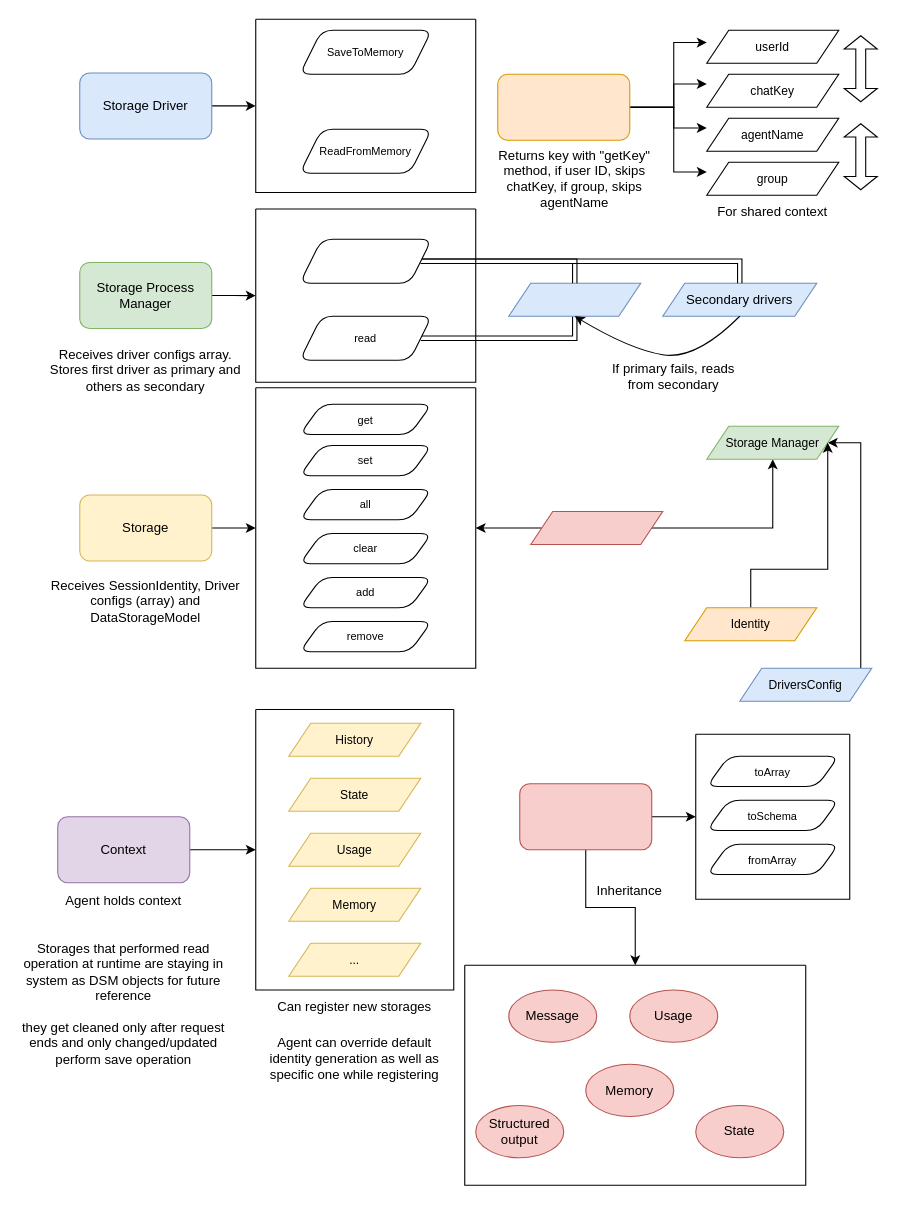
Some shapes in this 897 by 1205 pixel diagram are drawn without their labels. The shapes that lost their labels are listed below. From the top down, each one's box as (x1, y1, x2, y2) in pixels, then its label:
(497, 73, 630, 140): SessionIdentity
(299, 238, 432, 283): save
(508, 282, 641, 316): Primary Driver
(530, 510, 663, 544): Items (array)
(519, 783, 652, 850): DataStorageModel
